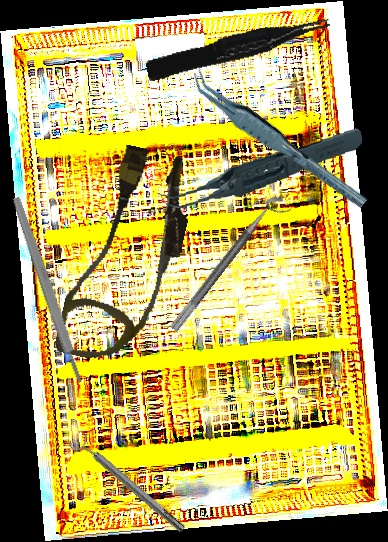Cannula: (53, 138, 202, 374)
Fixation Ring: (168, 191, 294, 342), (66, 427, 190, 540)
Scalpel Handle: (10, 195, 85, 385)
Tissue Forceps: (186, 53, 369, 228), (152, 127, 367, 210), (143, 14, 334, 82)
